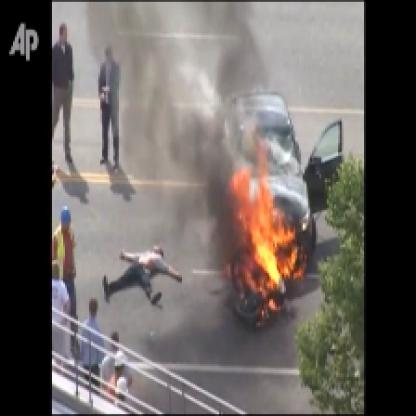Fire: (221, 124, 308, 320)
Smoke: (91, 2, 245, 247)
